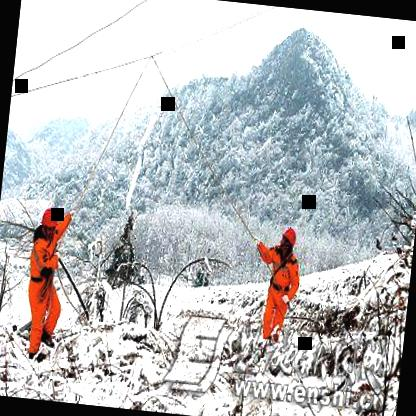helmet: (37, 201, 62, 244), (277, 226, 299, 259)
